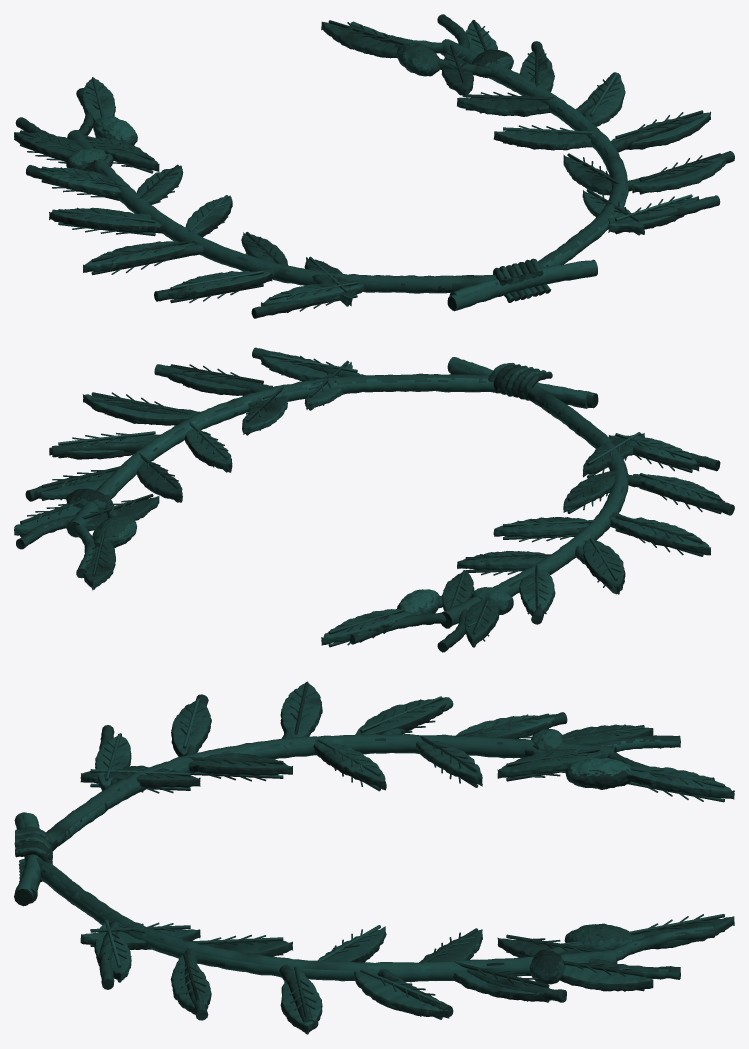
Rendered from bronze_laurel_wreath.glb.
3 views of the same model, one above another, from view 1: azimuth 30°, elevation 25°; view 2: azimuth 150°, elevation 25°; view 3: azimuth 270°, elevation 25° (orthographic). The views are drawn at different scales.
Parts seen in each view (by area): view 1: Bronze_Laurel_Wreath_Portable; view 2: Bronze_Laurel_Wreath_Portable; view 3: Bronze_Laurel_Wreath_Portable.
Part boxes in pixels (x1=…): Bronze_Laurel_Wreath_Portable: x1=14, y1=14, x2=734, y2=318; Bronze_Laurel_Wreath_Portable: x1=14, y1=347, x2=734, y2=652; Bronze_Laurel_Wreath_Portable: x1=14, y1=681, x2=734, y2=1034.
Size of the model in its own units: 11.26 by 0.5522 by 9.95.
Materials: 1 (1 with a texture image).
